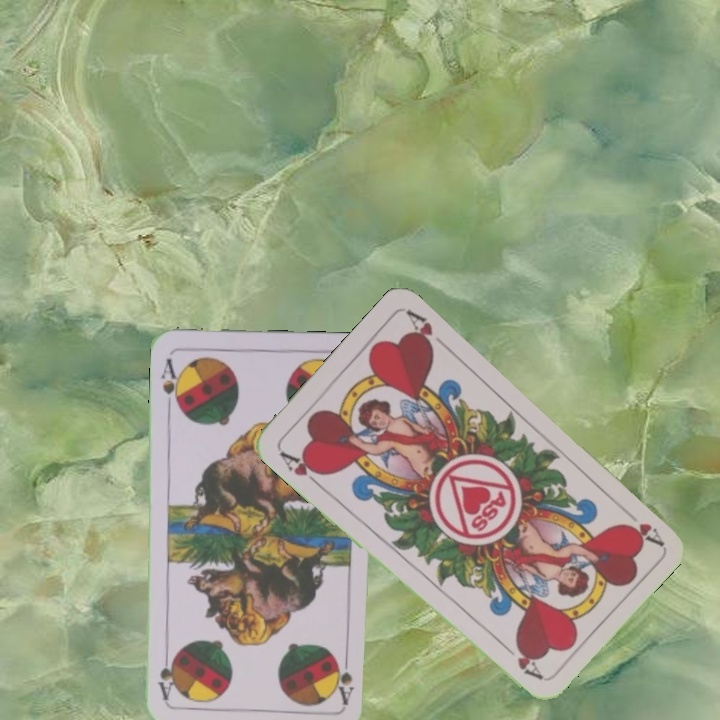HA: (275, 446, 328, 490), (616, 502, 665, 548)
SA: (157, 355, 183, 411), (333, 647, 357, 706)
